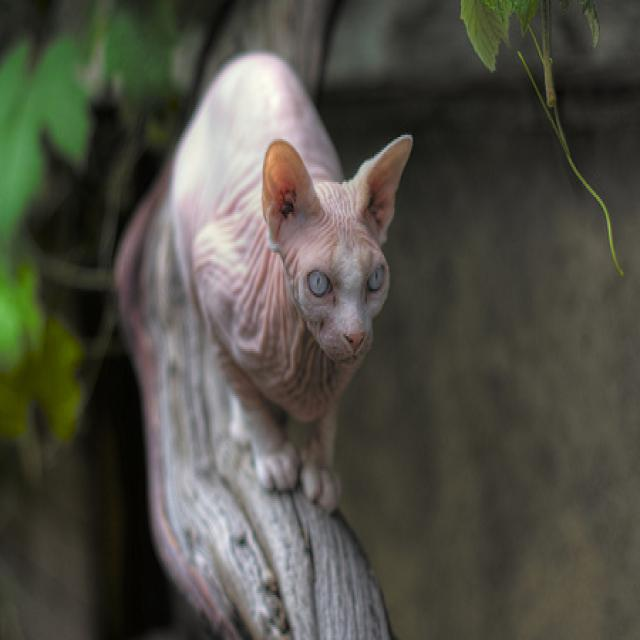Sphynx: (168, 45, 418, 517)
